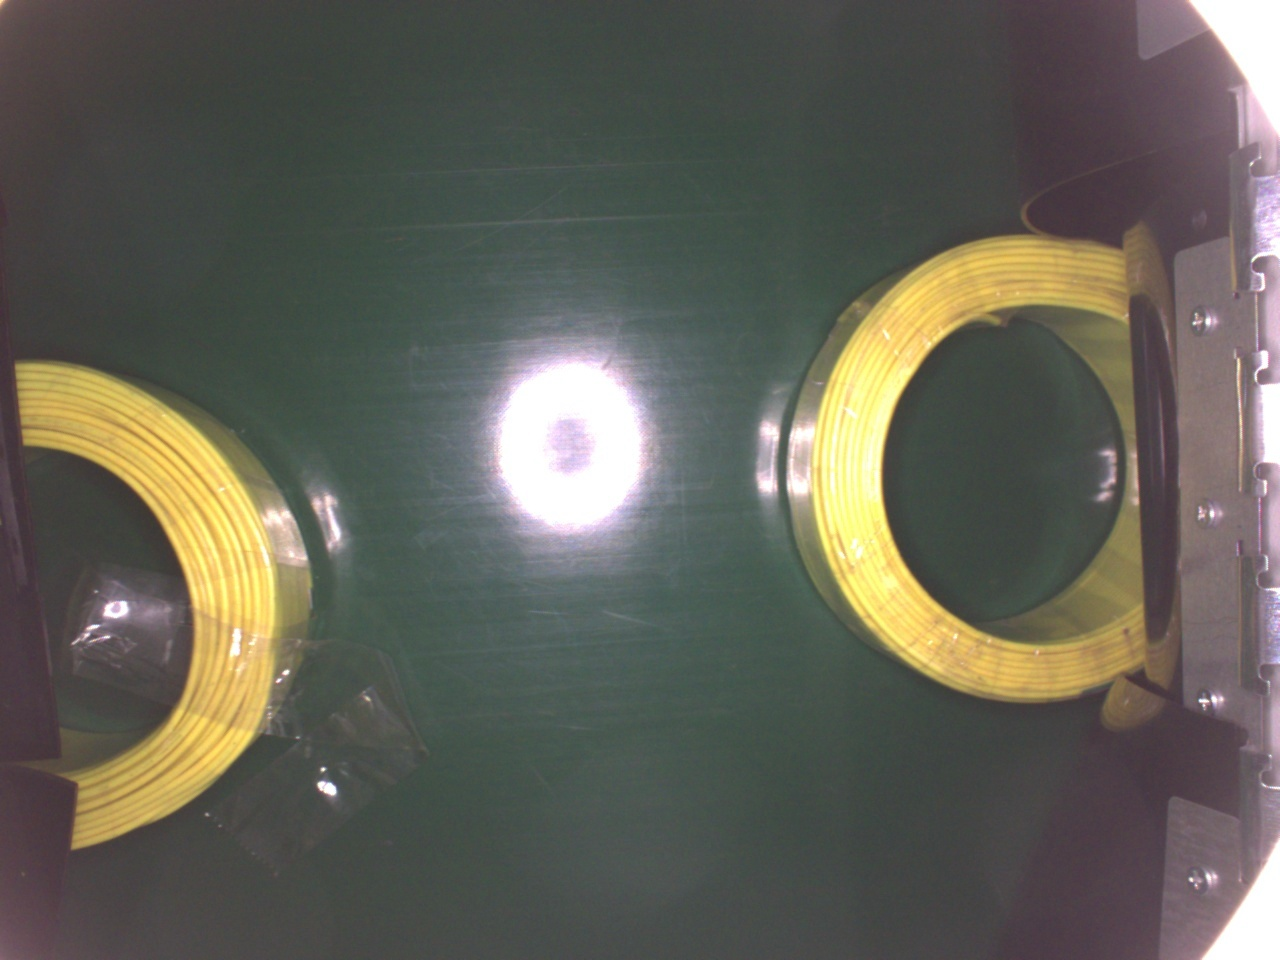yellow: (783, 228, 1143, 700), (17, 354, 315, 857)
